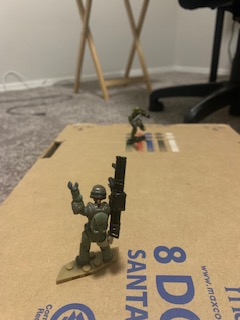soldier: (60, 152, 131, 266), (125, 104, 152, 147)
